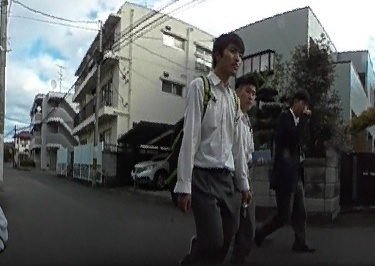person: (181, 29, 247, 265), (258, 89, 313, 258), (222, 74, 258, 263)
